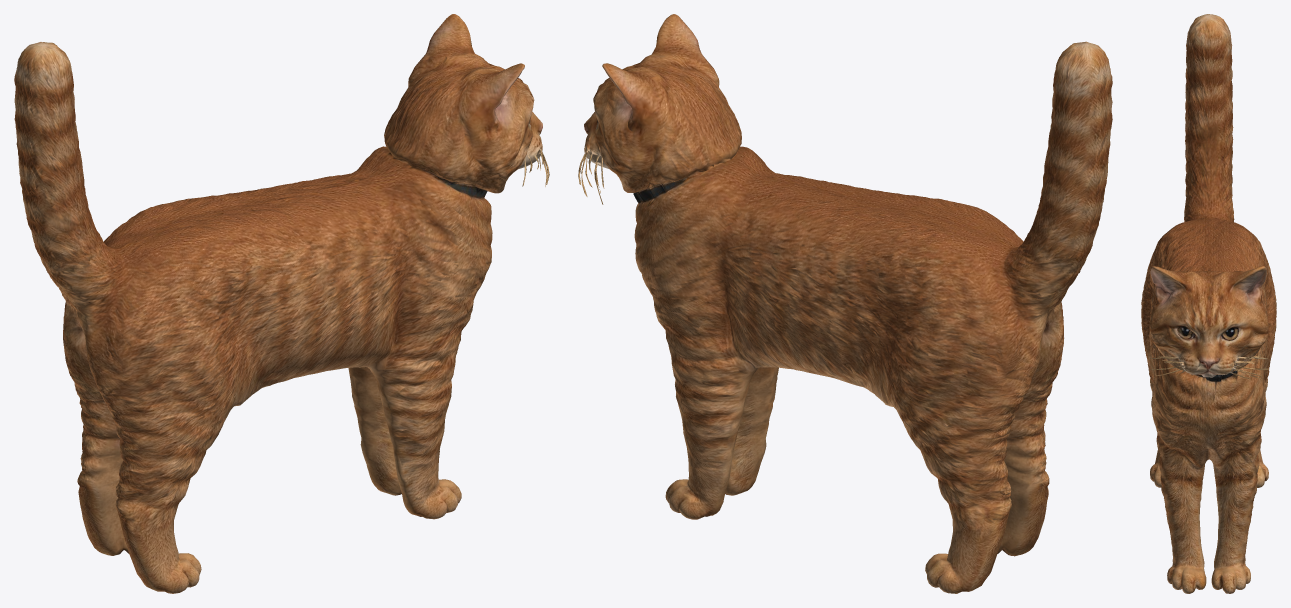
Rendered from HAMLETCAT.glb.
3 views of the same model, side by side, from view 1: azimuth 30°, elevation 25°; view 2: azimuth 150°, elevation 25°; view 3: azimuth 270°, elevation 25° (orthographic). The views are drawn at different scales.
Parts seen in each view (by area): view 1: tripo_node_349bc0e9-caa7-4216-9381-fd695056519e; view 2: tripo_node_349bc0e9-caa7-4216-9381-fd695056519e; view 3: tripo_node_349bc0e9-caa7-4216-9381-fd695056519e.
Boxes of the visible parts, <box> form: tripo_node_349bc0e9-caa7-4216-9381-fd695056519e: <box>14,14,549,593</box>; tripo_node_349bc0e9-caa7-4216-9381-fd695056519e: <box>578,14,1112,593</box>; tripo_node_349bc0e9-caa7-4216-9381-fd695056519e: <box>1141,14,1276,593</box>.
Size of the model in its own units: 0.9985 by 0.9998 by 0.2873.
Materials: 1 (1 with a texture image).
